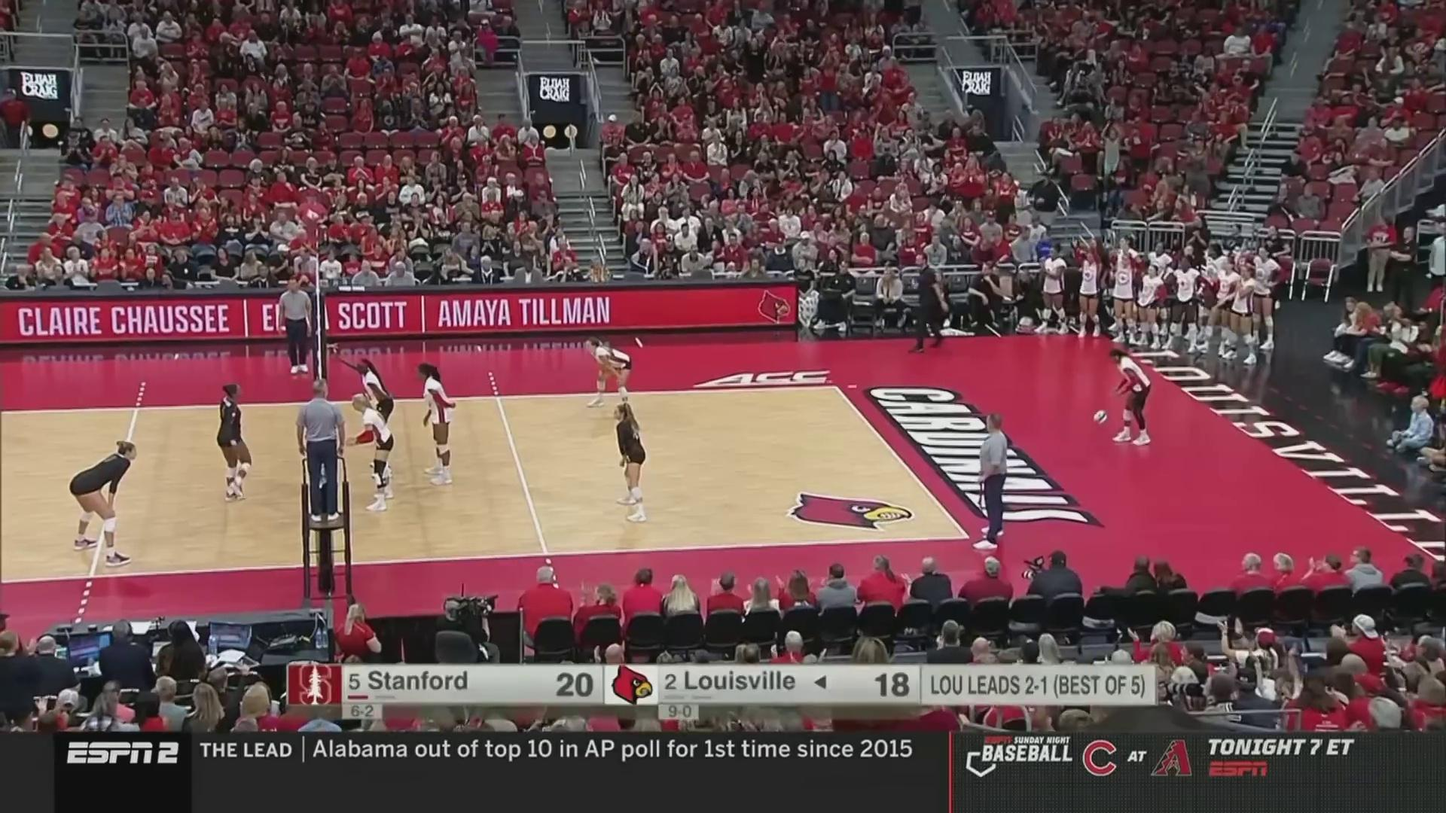player: (67, 440, 137, 563), (348, 353, 395, 478), (415, 365, 460, 485), (216, 384, 259, 505), (351, 396, 394, 515), (610, 400, 650, 517), (1111, 346, 1153, 448), (588, 333, 636, 410)
refree: (301, 380, 343, 523), (976, 413, 1009, 549), (280, 280, 312, 375)
